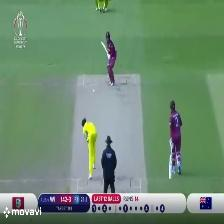ball: (90, 86, 97, 94)
batsman: (100, 30, 122, 87)
